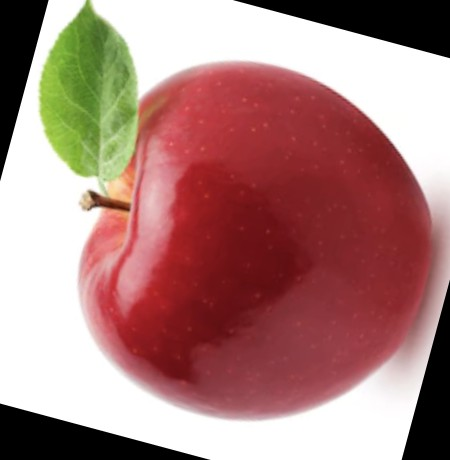fresh_apple: (76, 59, 432, 420)
